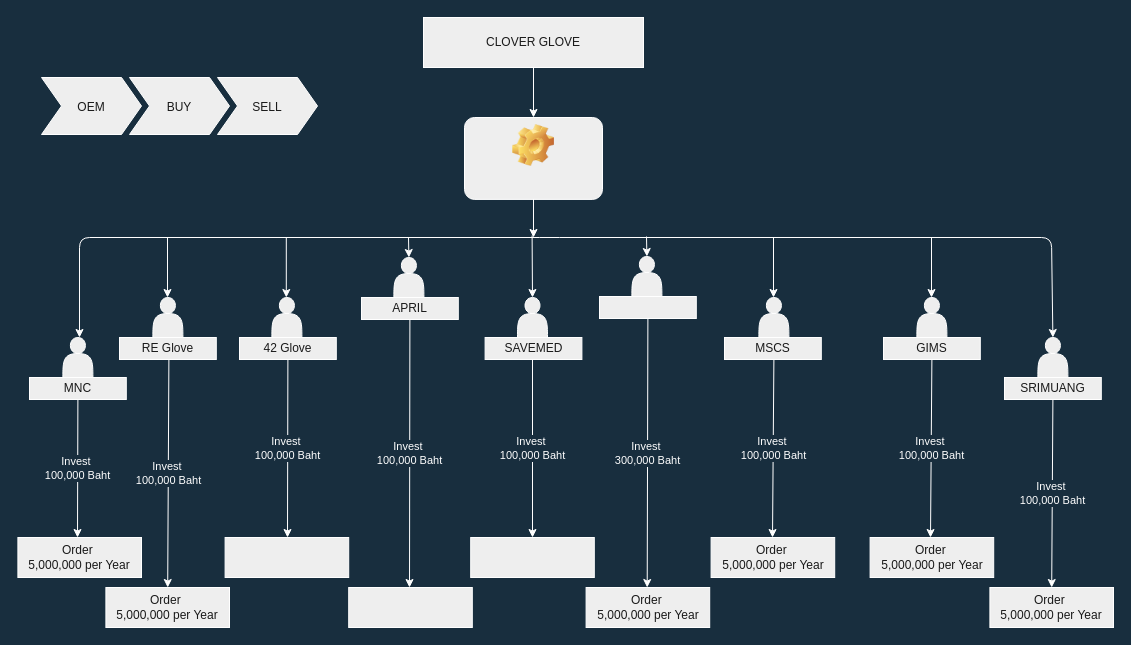
The diagram is 1131 pixels wide and 645 high, and some of its shapes have lost their labels. Here are the shapes that lost their labels. From the top down, the centre of each, then its label:
At pixel 533 157: "1,200,000 THB 3 Years OEM".
At pixel 647 307: "TIFANNY".
At pixel 286 557: "Order 720,000 per Year".
At pixel 532 557: "5,000,000 per Year".
At pixel 410 607: "Order 4,000,000 per Year".
